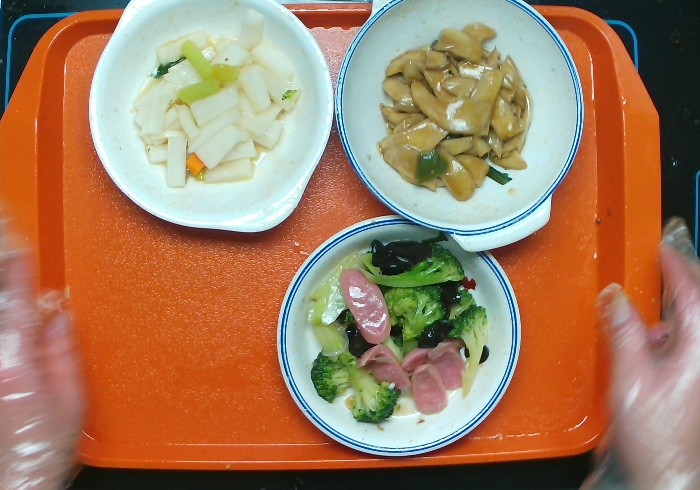HZYJPL-Dai_Er_Bai_Yuan_Wan: (86, 1, 335, 234)
HZYJPL-Lan_Bian_Dai_Er_Wan: (333, 1, 586, 252)
HZYJPL-Lan_Bian_Yuan_Die: (274, 213, 523, 458)
